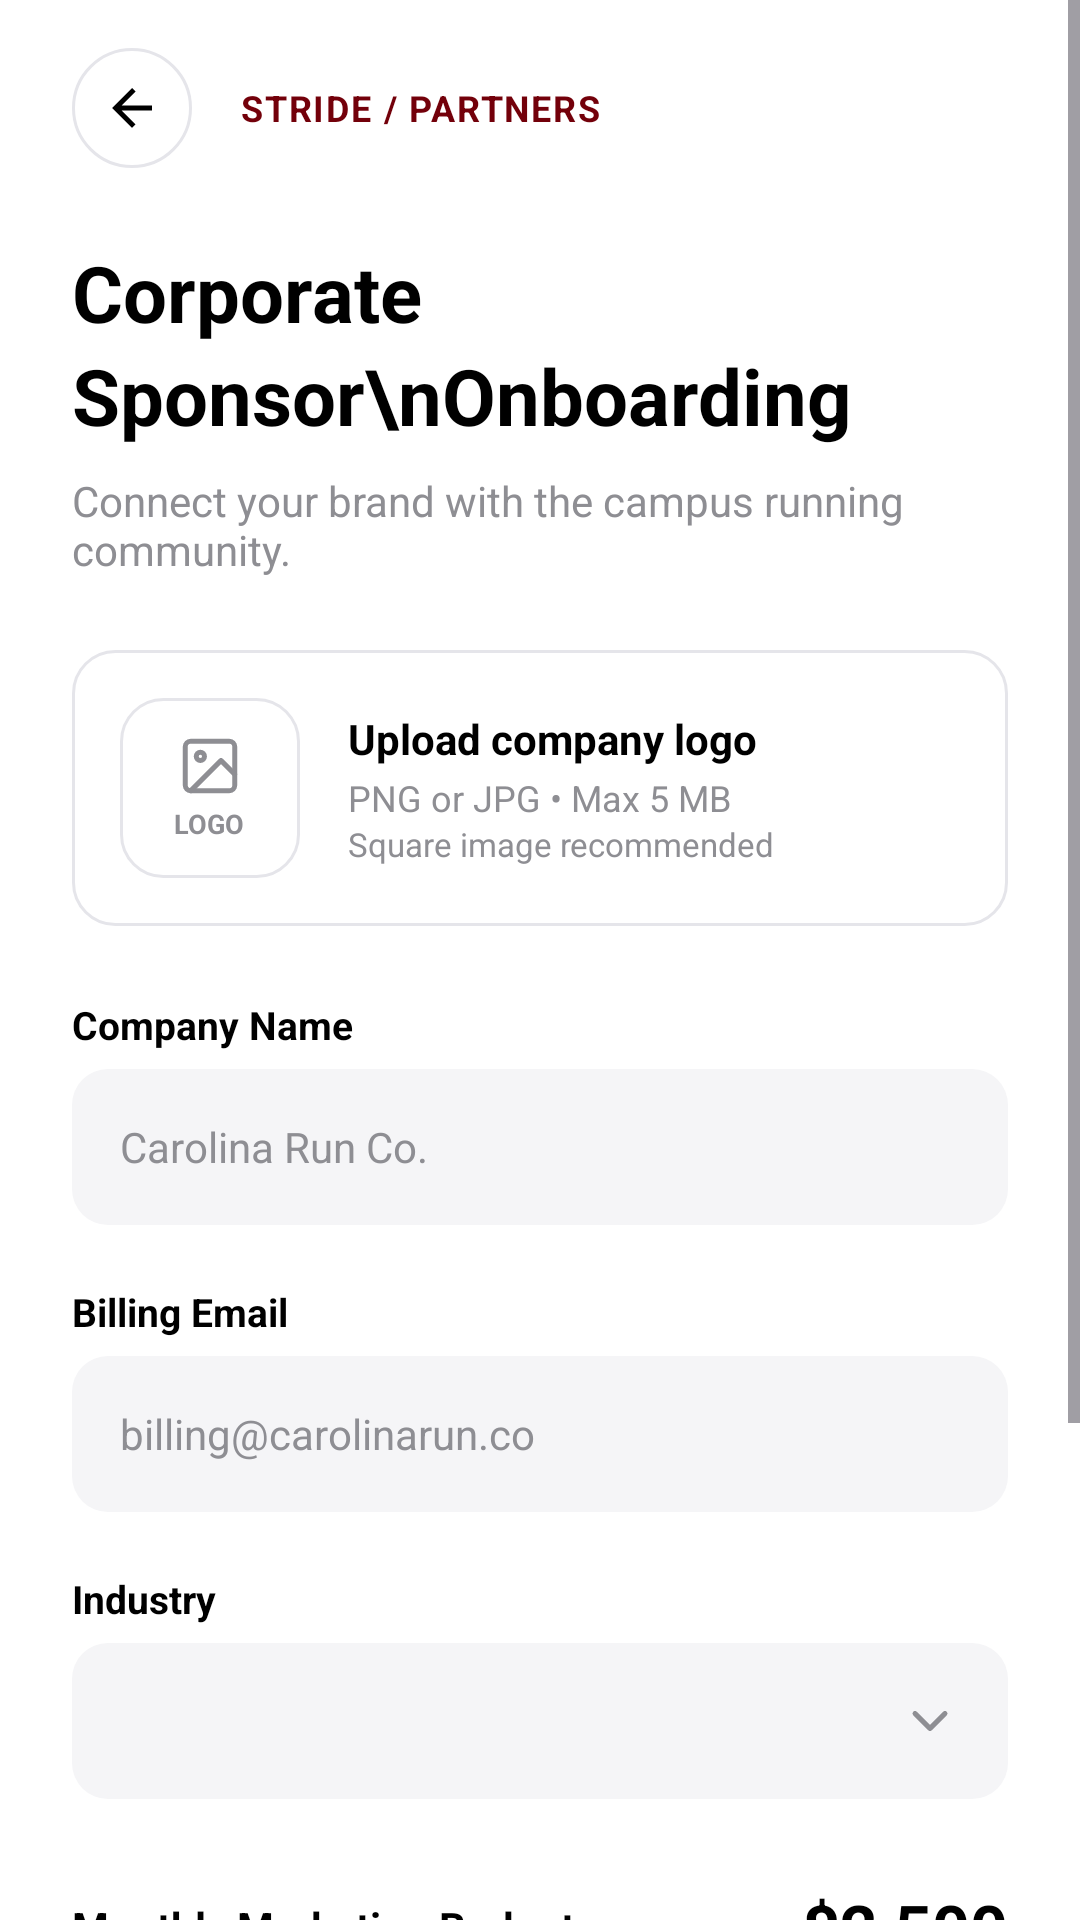

Point at icon controls on the screen. Image size 1080 × 1920, points as (x,y).
Dropdown arrow: (930,1721)
Navigate Back: (132,108)
